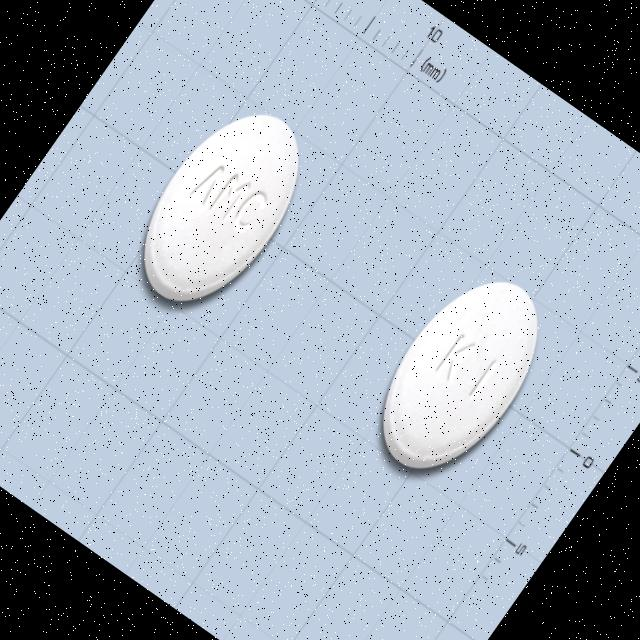Amocla 375mg: (111, 87, 330, 330), (350, 254, 569, 496)
